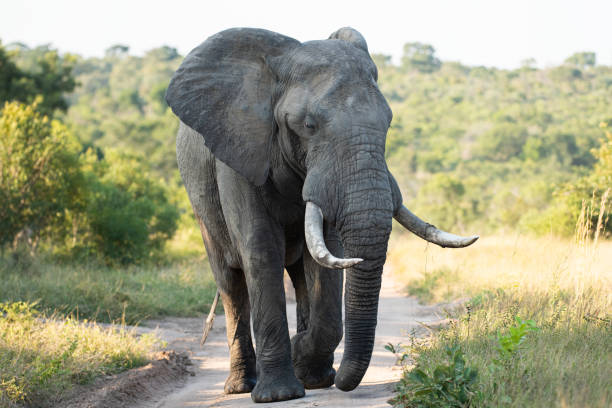africanelephant: (263, 48, 482, 283)
